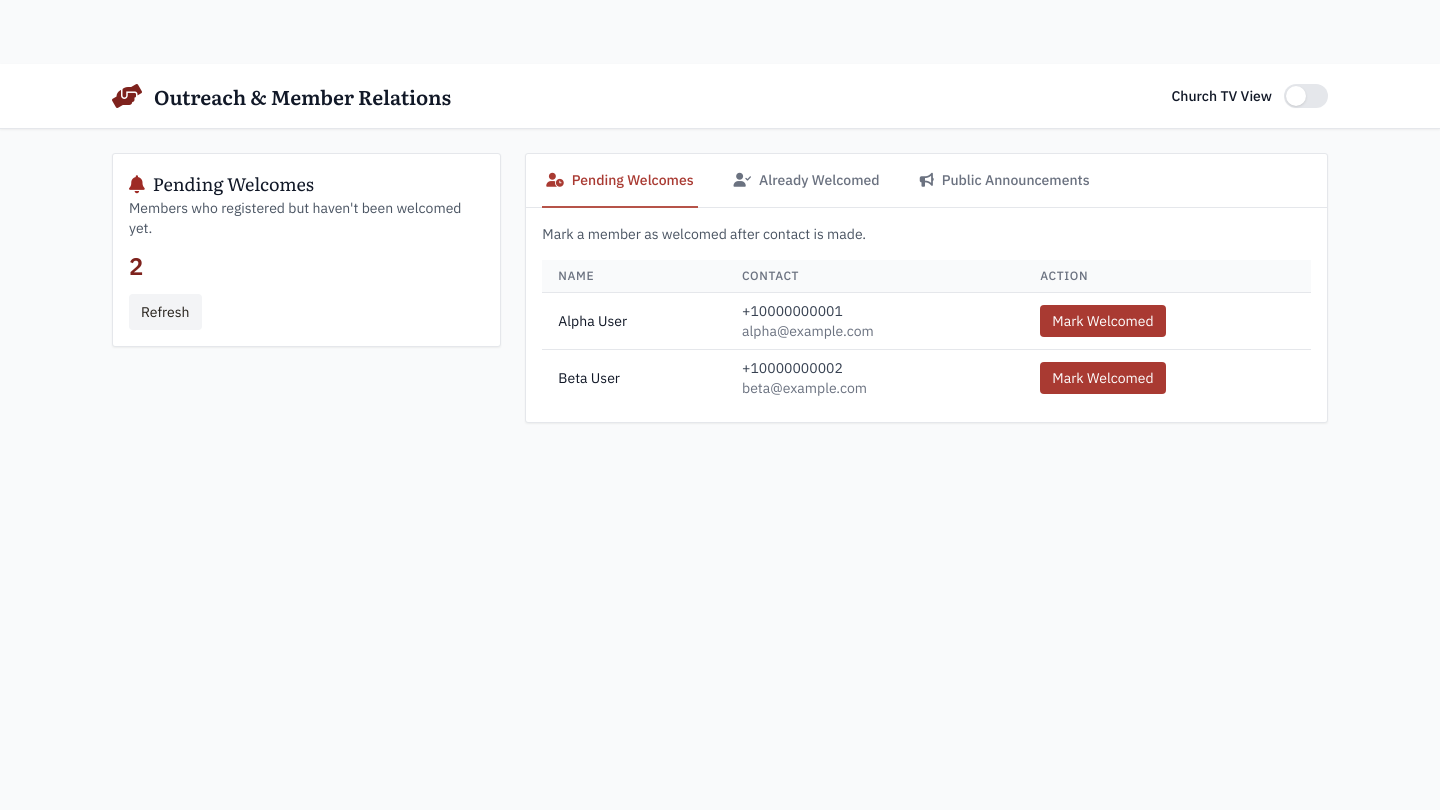
Test: OutreachDashboard › shows pending count and list for admin and supports marking welcomed
Expected: the heading "Outreach & Member Relations" is shown, left=154, top=82, right=451, bottom=110
Expected: the text "2" is shown, left=129, top=250, right=143, bottom=282
Click Mark Welcomed for first member
Click the button "Mark Welcomed" in the row of "+10000000001" at (1103, 321), box left=1040, top=305, right=1166, bottom=337
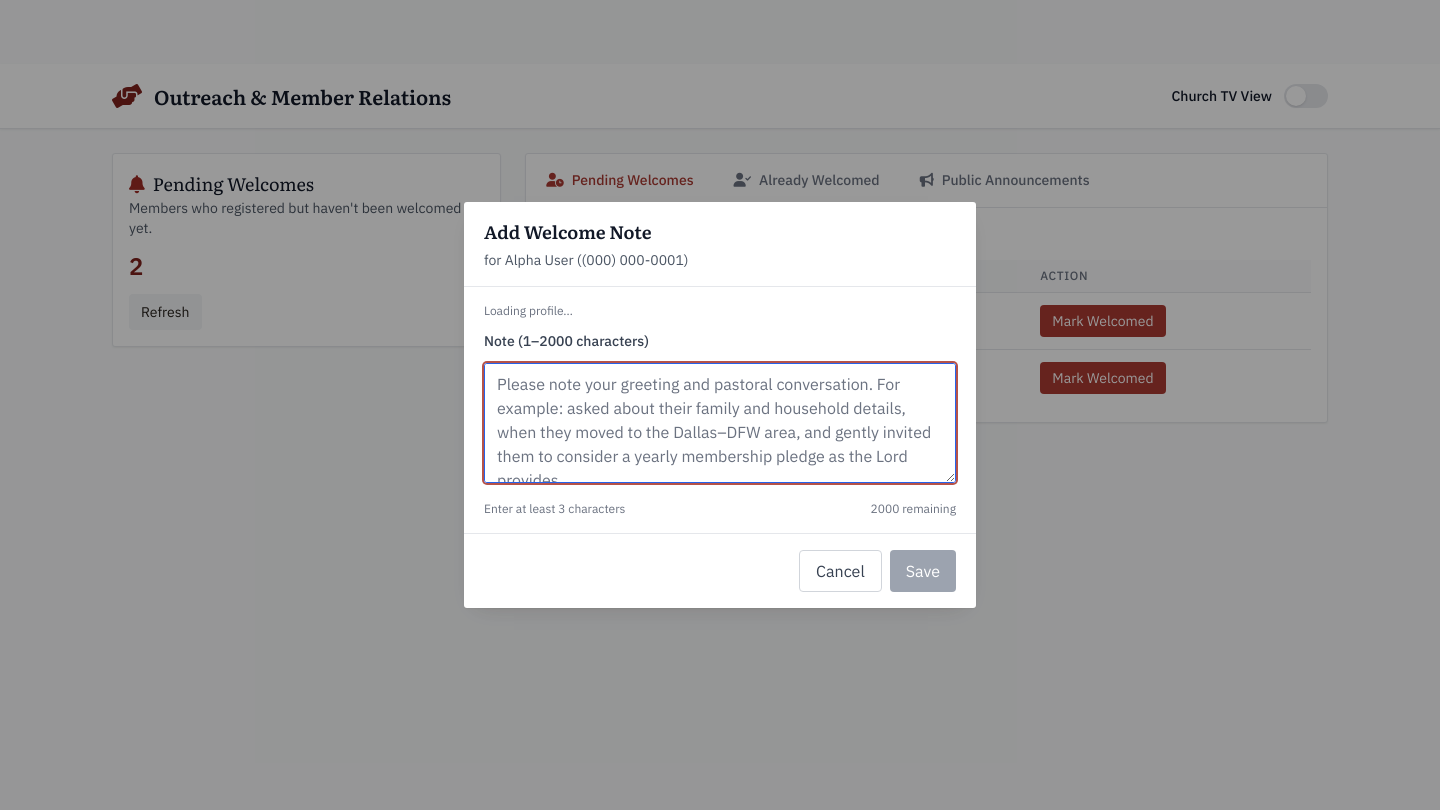
Result: the heading "Add Welcome Note" is shown at left=484, top=218, right=652, bottom=245
Type a note
Replace the text in the text box with placeholder "note your greeting" with "Helped them settle in." at (720, 423), box left=484, top=363, right=956, bottom=483
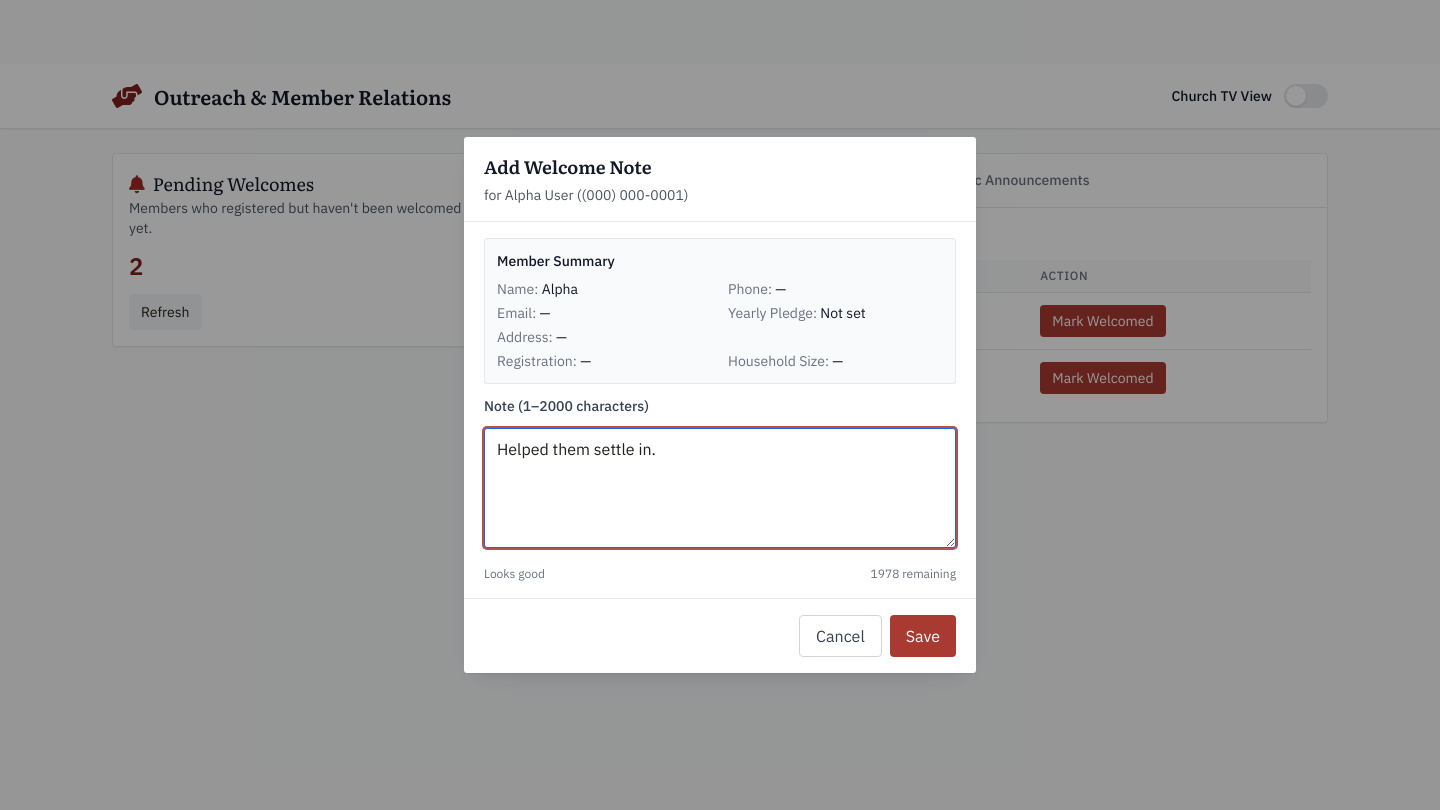
Click Save
Click the button "Save" at (923, 636), box left=890, top=615, right=956, bottom=657
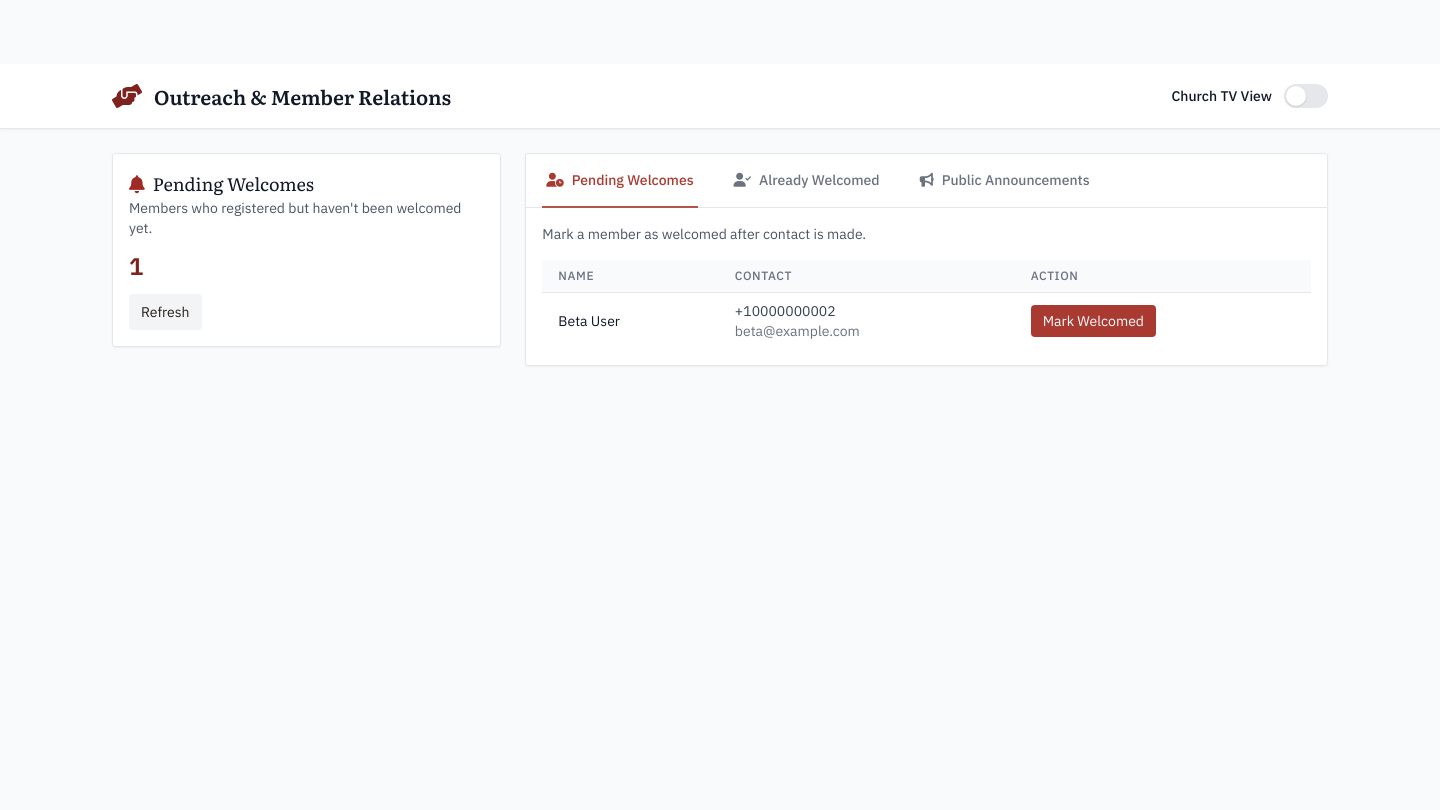
Result: the text "Alpha User" is gone
Result: the text "1" is shown at left=129, top=250, right=143, bottom=282
